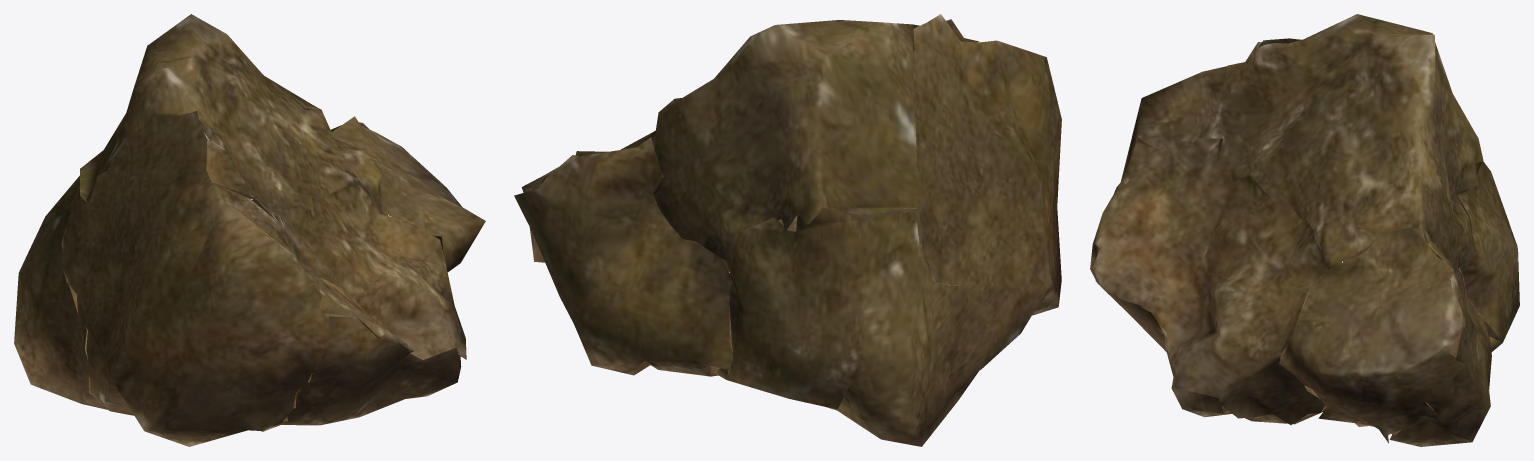
The model's file is rock_b.glb.
3 renders of one model, left to right at view 1: azimuth 30°, elevation 25°; view 2: azimuth 150°, elevation 25°; view 3: azimuth 270°, elevation 25°, orthographic. The views are drawn at different scales.
Parts seen in each view (by area): view 1: rock_b; view 2: rock_b; view 3: rock_b.
Part boxes in pixels (box(x1,y1,x2,y2)): rock_b: box(14, 14, 485, 446); rock_b: box(514, 14, 1061, 446); rock_b: box(1090, 14, 1519, 446).
Bounding box in the file's own units: 2.14 × 1.78 × 1.97.
1 material, 1 textured.
